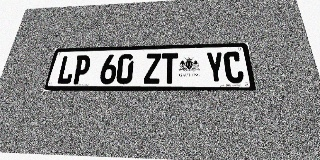0: (115, 54, 134, 84)
6: (99, 54, 118, 84)
C: (223, 51, 245, 83)
L: (56, 55, 77, 84)
P: (71, 55, 92, 84)
T: (161, 53, 178, 84)
Y: (205, 52, 225, 83)
Z: (144, 53, 161, 84)
